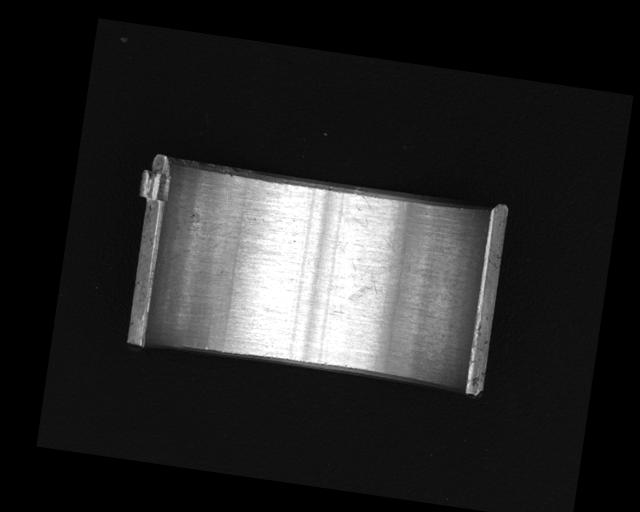blot: (344, 257, 390, 308)
